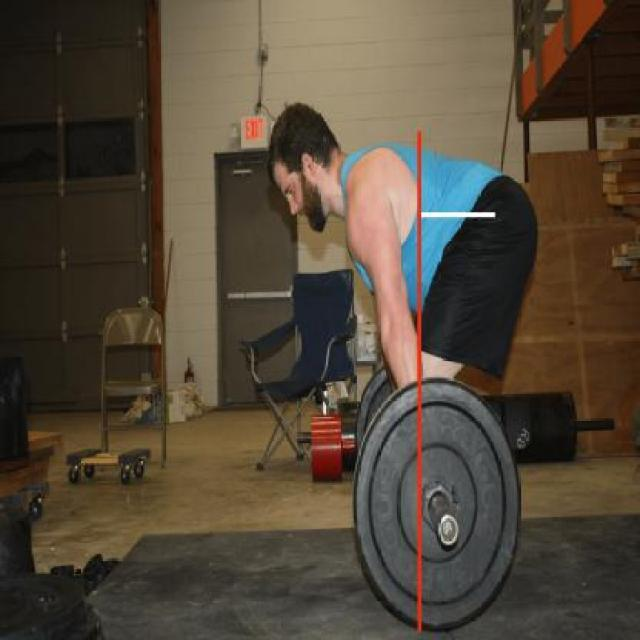Barbell: (434, 513, 462, 550)
